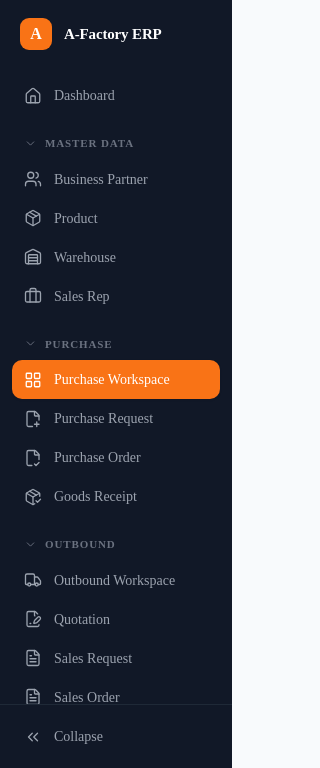
Test: Sidebar — หุบเป็นรายหมวด › หุบหมวดแล้วเหลือแต่หัวข้อ
Expected: the link "Business Partner" is shown, [24,170,148,188]
Click the button "Master Data".
click(116, 137)  # box [12,115,220,160]
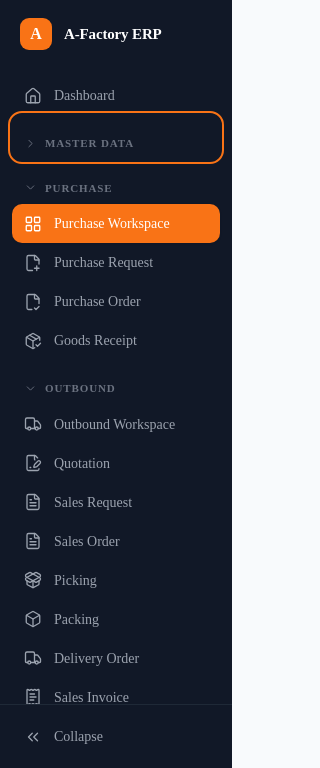
Result: the link "Business Partner" is gone
